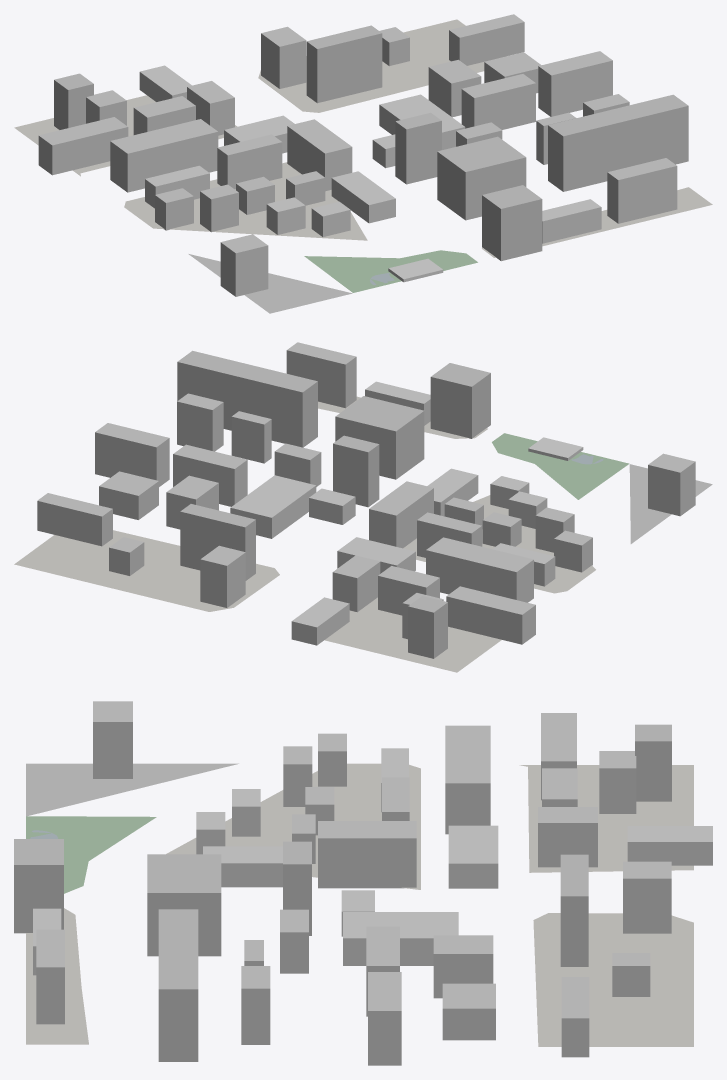
Rendered from 117_88_mid.glb.
3 renders of one model, top to bottom at view 1: azimuth 30°, elevation 25°; view 2: azimuth 150°, elevation 25°; view 3: azimuth 270°, elevation 25°, orthographic. The views are drawn at different scales.
Bounding box in the file's own units: 558 × 61.96 × 523.
